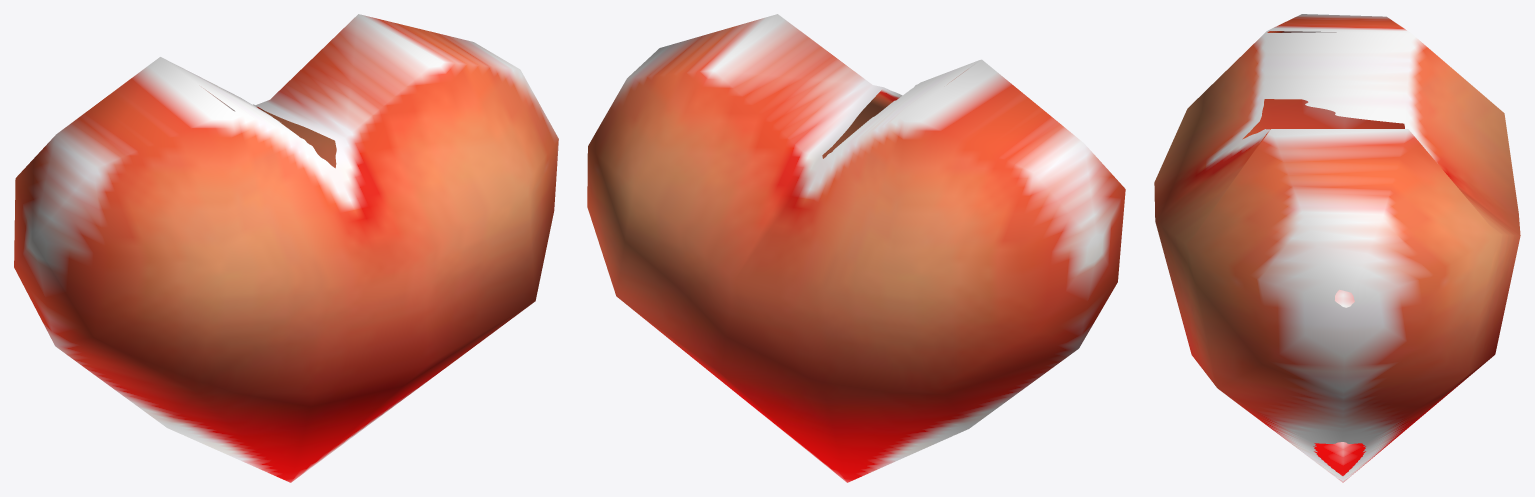
File: Jellybean.fbx
3 renders of one model, left to right at view 1: azimuth 30°, elevation 25°; view 2: azimuth 150°, elevation 25°; view 3: azimuth 270°, elevation 25°, orthographic. The views are drawn at different scales.
Visible parts, largest first — view 1: heartCandyBase; view 2: heartCandyBase; view 3: heartCandyBase.
Part boxes in pixels (x1,y1,x2,y2): heartCandyBase: (14,14,558,482); heartCandyBase: (587,14,1125,482); heartCandyBase: (1154,14,1520,482).
Bounding box in the file's own units: 1.99 × 1.6 × 1.31.
1 material, 1 textured.
